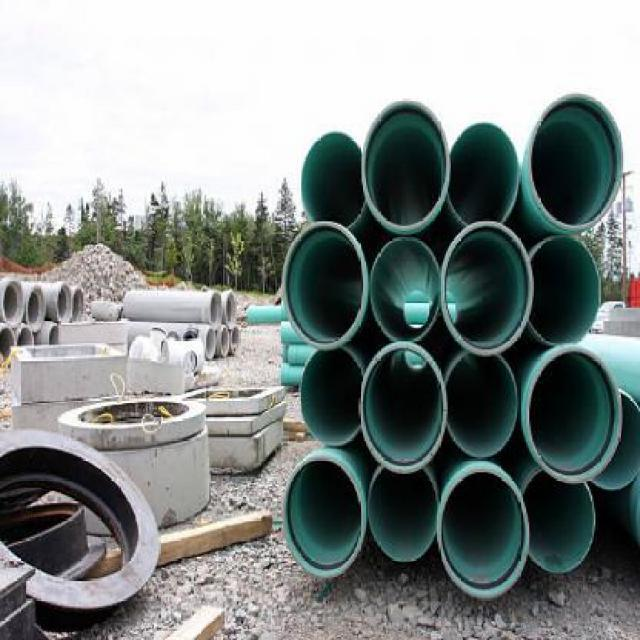pipe: (526, 346, 622, 484), (529, 94, 623, 230), (440, 222, 533, 355), (437, 468, 530, 597), (362, 100, 450, 235), (359, 343, 448, 472), (283, 222, 369, 353), (283, 457, 364, 577), (528, 235, 600, 344), (522, 469, 595, 573), (445, 354, 518, 457), (448, 122, 520, 226), (371, 237, 440, 342), (370, 466, 439, 560), (300, 132, 364, 230), (300, 347, 363, 446), (591, 389, 640, 492)
